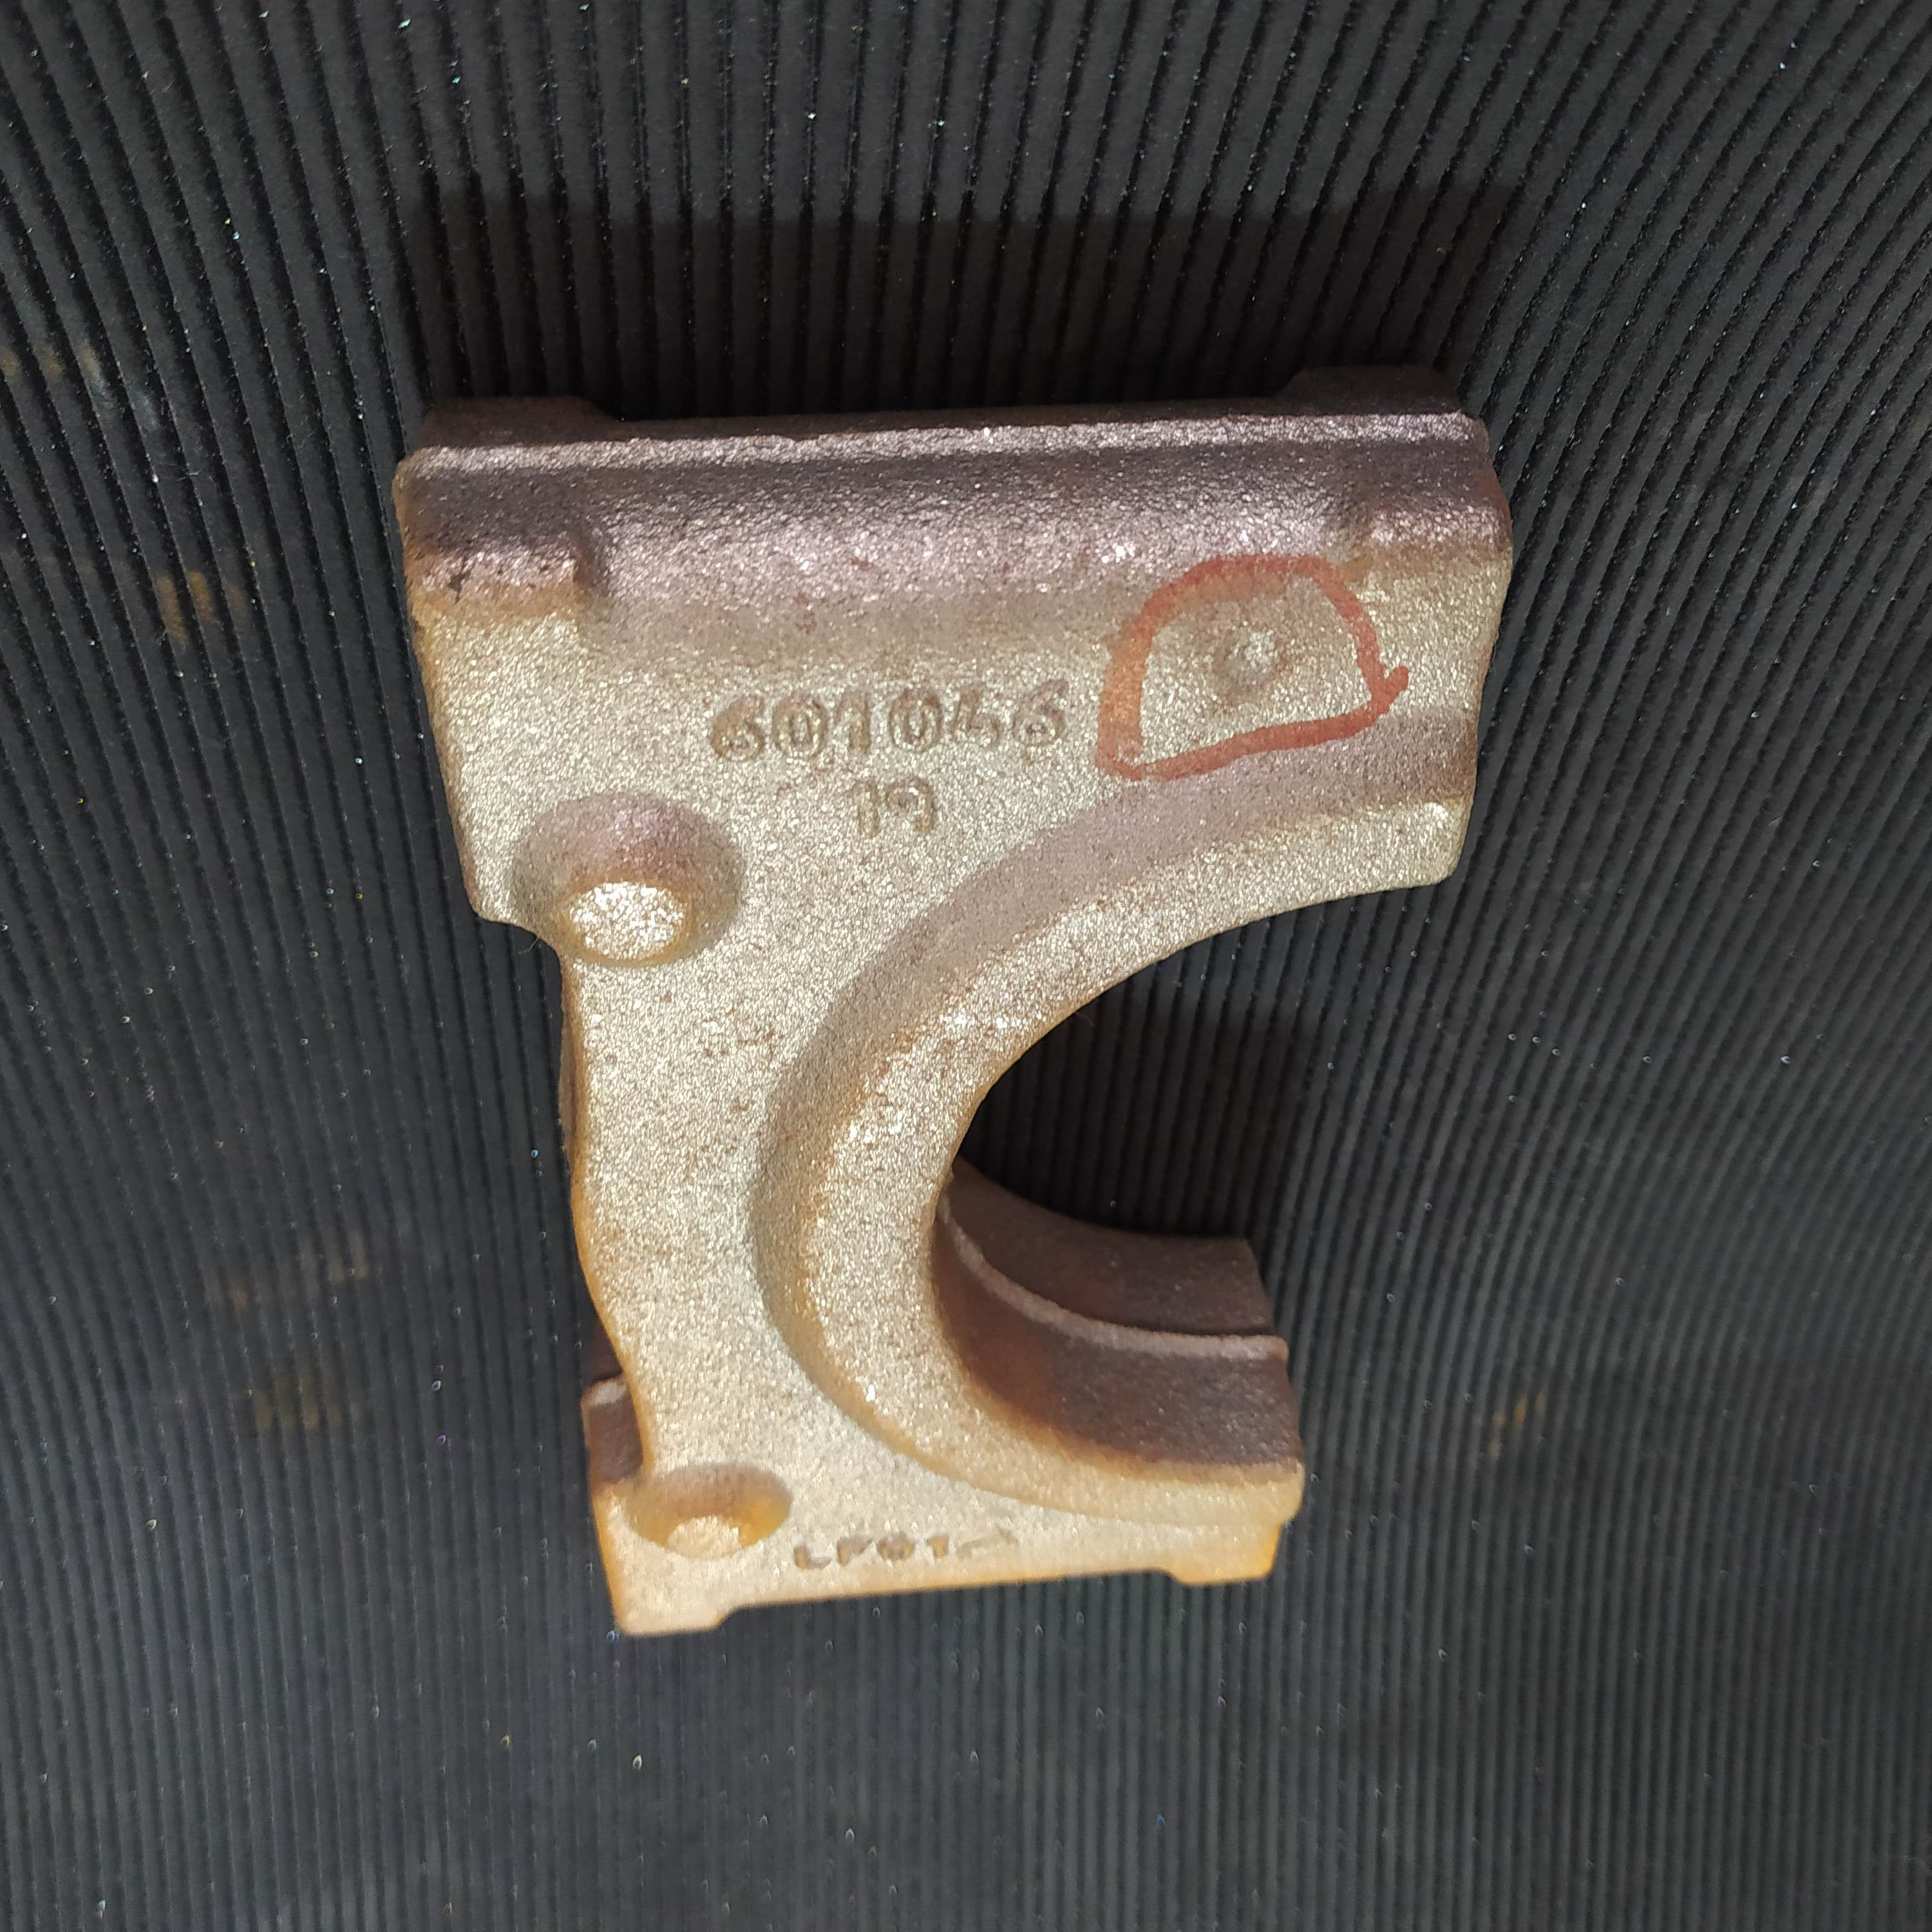buraco: (1205, 621, 1292, 706)
